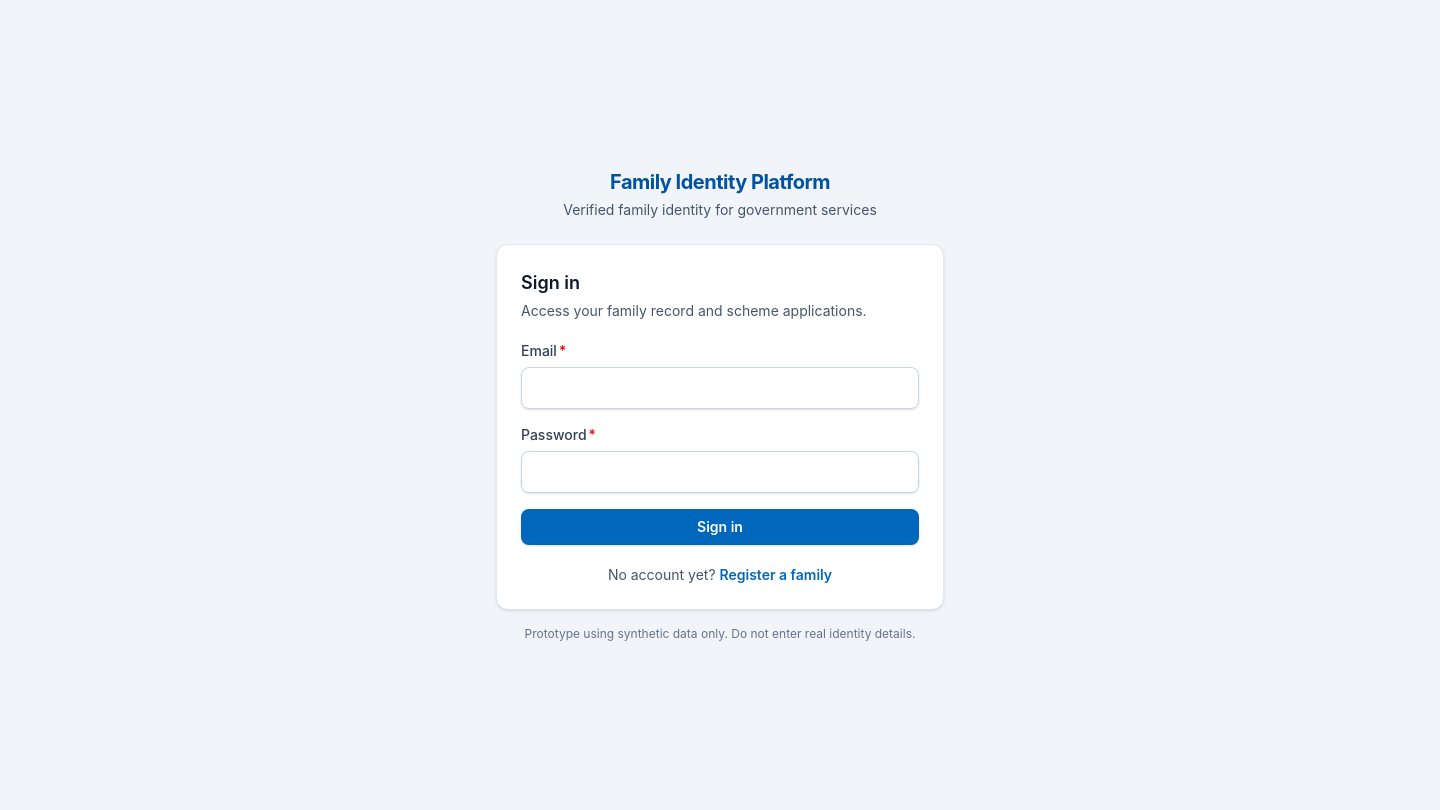
Test: LoginPage › sends credentials and lands a citizen on their dashboard
Type "rahul@example.com" into the field labelled "Email*".
click(720, 388); type("rahul@example.com")  # box [521, 367, 919, 409]
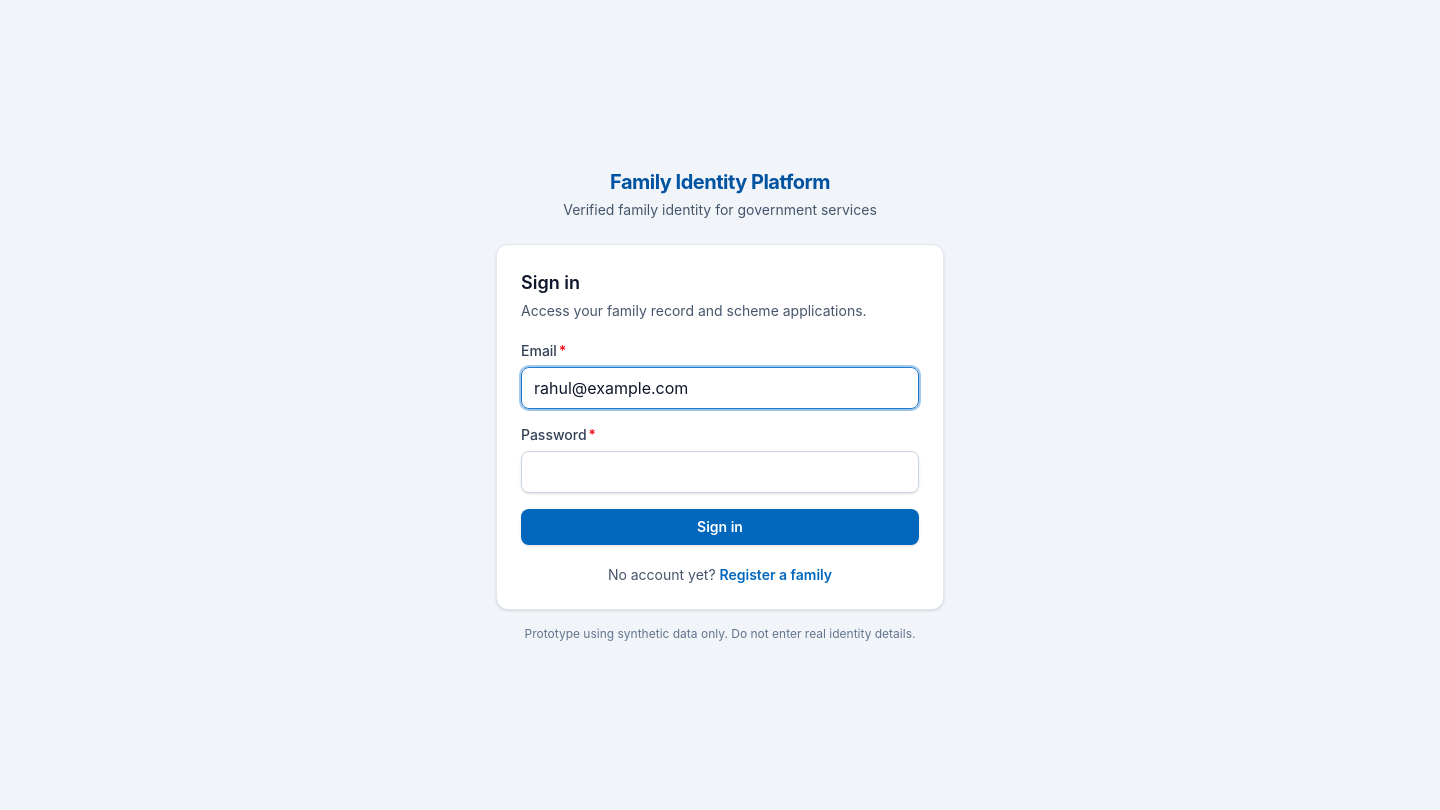
Type "Password123" into the password field labelled "Password*".
click(720, 472); type("Password123")  # box [521, 451, 919, 493]
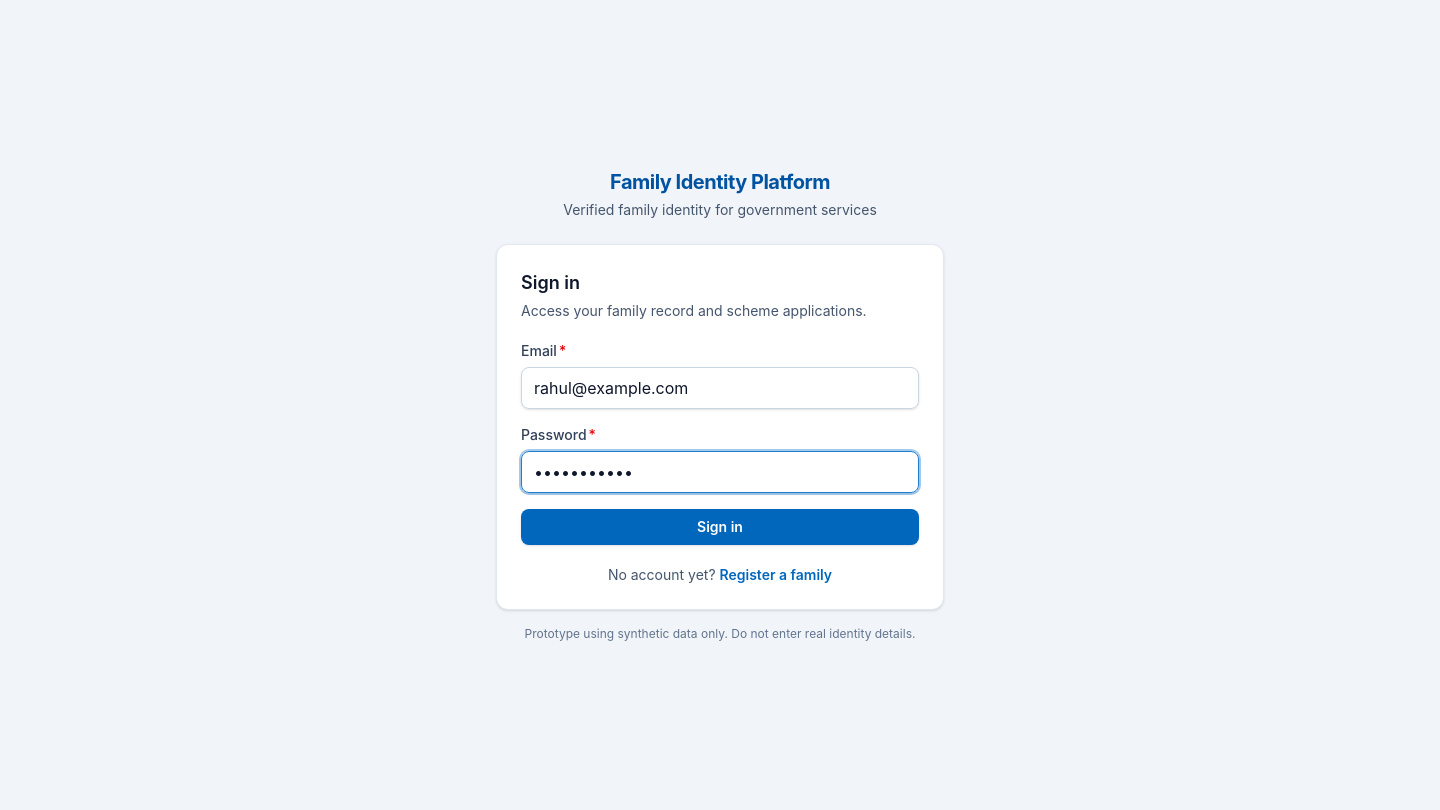
Click the button "Sign in".
click(720, 527)  # box [521, 509, 919, 545]
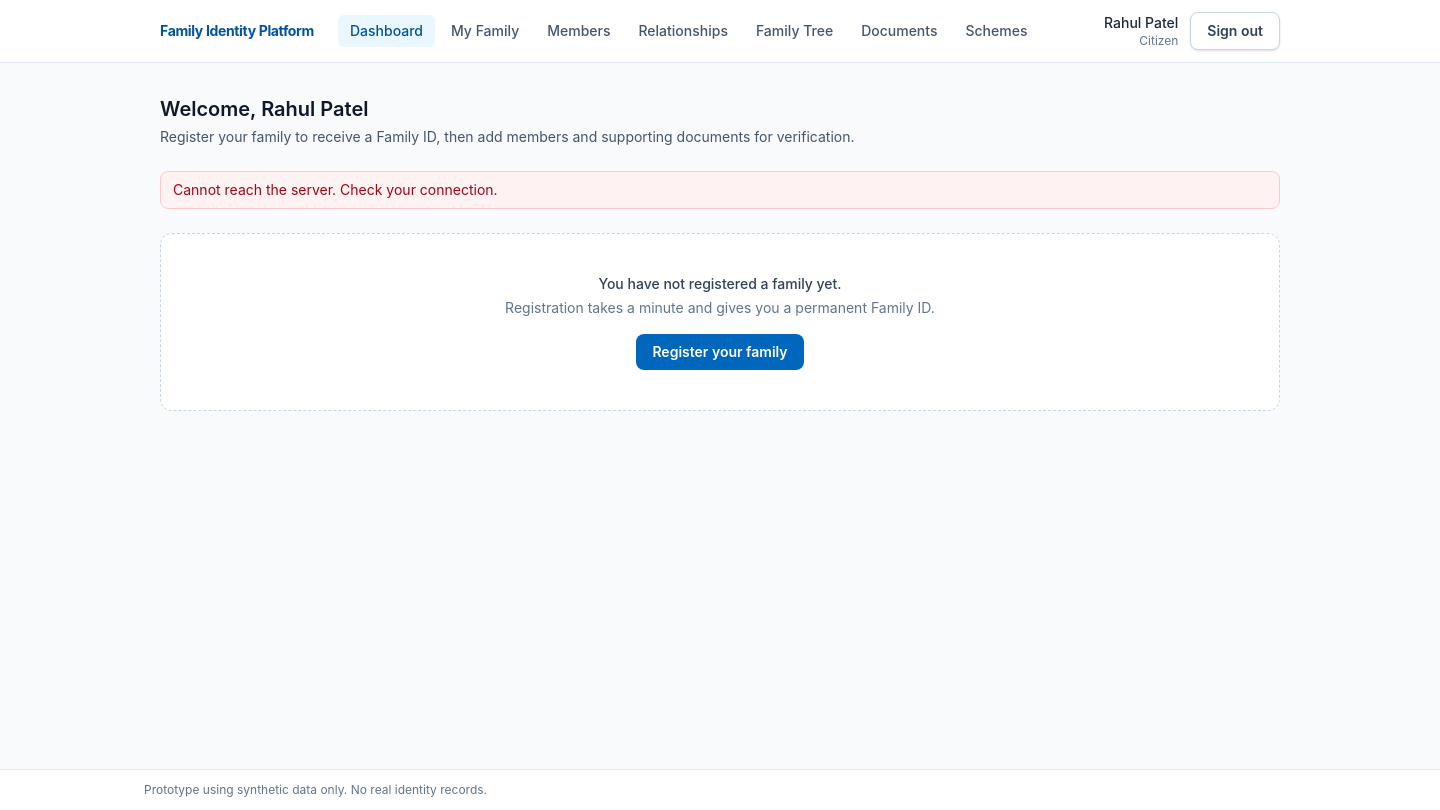
Now the heading "Welcome, Rahul Patel" is shown, box [160, 97, 368, 121]
